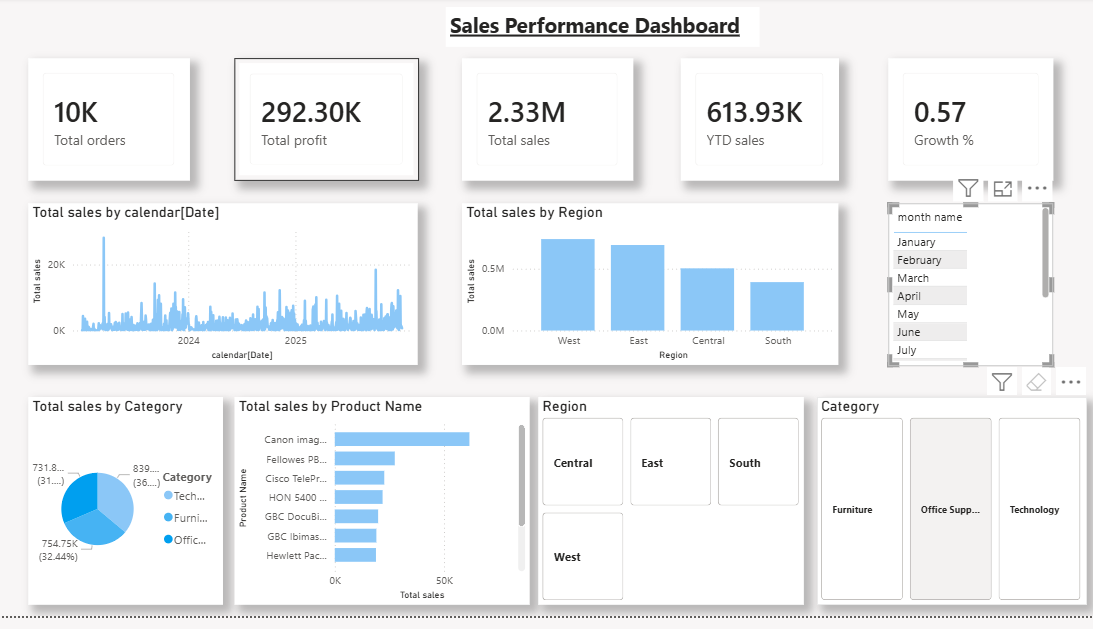

The dashboard page shown, as its layout file describes it:
{"tool":"powerbi","page":{"name":"Page 1","canvas":[1280,720],"ordinal":0},"visuals":[{"type":"cardVisual","fields":{"Data":["samplesuperstore.Total orders"]},"box":[37,71.4,188,142.7],"z":0},{"type":"cardVisual","fields":{"Data":["samplesuperstore.GROWTH%"]},"box":[1036,71.4,192.1,142.7],"z":1000},{"type":"cardVisual","fields":{"Data":["samplesuperstore.Total profit"]},"box":[275.8,71.4,214.1,142.7],"z":2000},{"type":"cardVisual","fields":{"Data":["samplesuperstore.Total sales"]},"box":[540.7,71.4,199,142.7],"z":3000},{"type":"cardVisual","fields":{"Data":["samplesuperstore.YTD sales"]},"box":[794.5,71.4,183.9,142.7],"z":4000},{"type":"lineChart","fields":{"Y":["samplesuperstore.Total sales"],"Category":["calendar.Date"]},"box":[37,240.1,452.8,188],"z":5000},{"type":"clusteredColumnChart","fields":{"Category":["samplesuperstore.Region"],"Y":["samplesuperstore.Total sales"]},"box":[540.7,240.1,437.7,188],"z":6000},{"type":"pieChart","fields":{"Category":["samplesuperstore.Category"],"Y":["samplesuperstore.Total sales"]},"box":[37,465.2,226.4,241.5],"z":7000},{"type":"clusteredBarChart","fields":{"Y":["samplesuperstore.Total sales"],"Category":["samplesuperstore.Product Name"]},"box":[275.8,465.2,343.1,241.5],"z":8000},{"type":"advancedSlicerVisual","fields":{"Values":["samplesuperstore.Region"]},"box":[629.8,465.2,308.7,241.5],"z":9000},{"type":"advancedSlicerVisual","fields":{"Values":["samplesuperstore.Category"]},"box":[953.7,465.2,312.9,241.5],"z":10000},{"type":"tableEx","fields":{"Values":["calendar.month name"]},"box":[1036,240,192,188],"z":11000},{"type":"textbox","box":[521.4,12.3,365,46.7],"z":12000}]}

Visuals, with their boxes in screenshot pixels (x1, y1, x2, y2), scaled from the page's 1280x720 canvas onto the 1093x629 screenshot:
cardVisual - samplesuperstore.Total orders: [32,62,192,187]
cardVisual - samplesuperstore.GROWTH%: [885,62,1049,187]
cardVisual - samplesuperstore.Total profit: [236,62,418,187]
cardVisual - samplesuperstore.Total sales: [462,62,632,187]
cardVisual - samplesuperstore.YTD sales: [678,62,835,187]
lineChart - samplesuperstore.Total sales x calendar.Date: [32,210,418,374]
clusteredColumnChart - samplesuperstore.Region x samplesuperstore.Total sales: [462,210,835,374]
pieChart - samplesuperstore.Category x samplesuperstore.Total sales: [32,406,225,617]
clusteredBarChart - samplesuperstore.Total sales x samplesuperstore.Product Name: [236,406,528,617]
advancedSlicerVisual - samplesuperstore.Region: [538,406,801,617]
advancedSlicerVisual - samplesuperstore.Category: [814,406,1082,617]
tableEx - calendar.month name: [885,210,1049,374]
textbox: [445,11,757,52]
